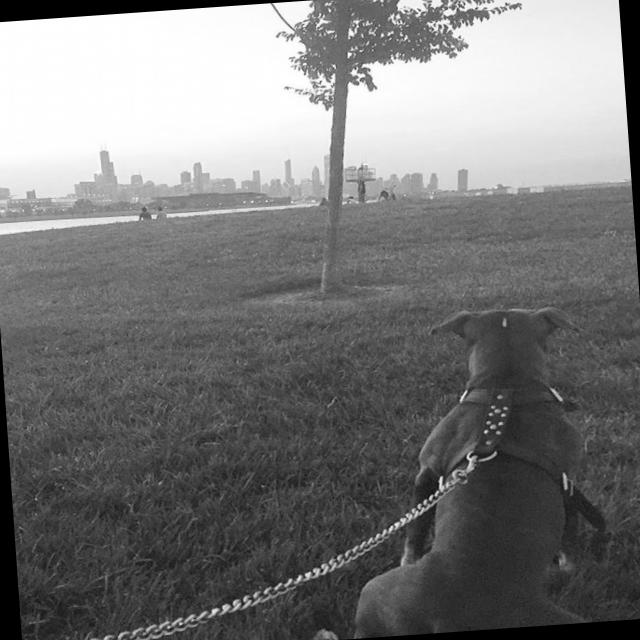squatting: (284, 287, 640, 640)
